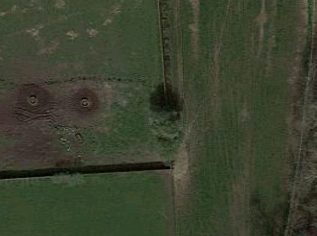tree: (139, 100, 205, 167)
